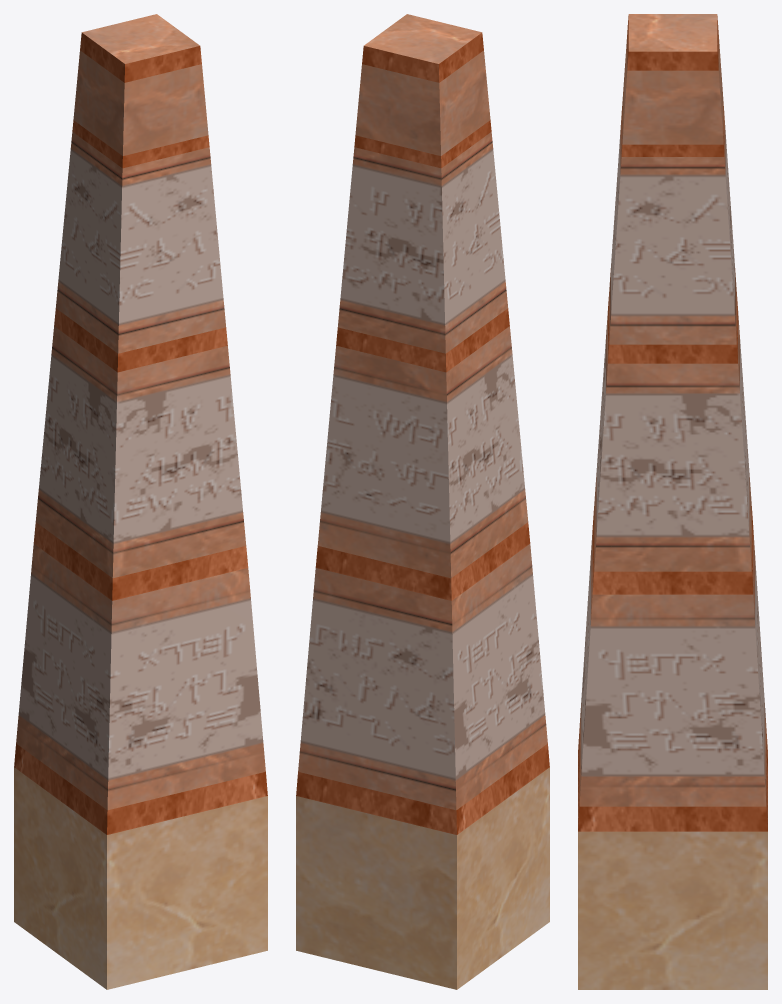
Rendered from Colony_Monolith_02_Art.fbx.
The picture shows the model from 3 angles, left to right: view 1: azimuth 30°, elevation 25°; view 2: azimuth 150°, elevation 25°; view 3: azimuth 270°, elevation 25°; orthographic projection. The views are drawn at different scales.
Parts seen in each view (by area): view 1: Colony_Monolith_02_Art; view 2: Colony_Monolith_02_Art; view 3: Colony_Monolith_02_Art.
Boxes of the visible parts, left/top/right/bottom form: Colony_Monolith_02_Art: left=14, top=14, right=267, bottom=989; Colony_Monolith_02_Art: left=296, top=14, right=549, bottom=989; Colony_Monolith_02_Art: left=578, top=14, right=767, bottom=989.
Size of the model in its own units: 140 by 746 by 140.
